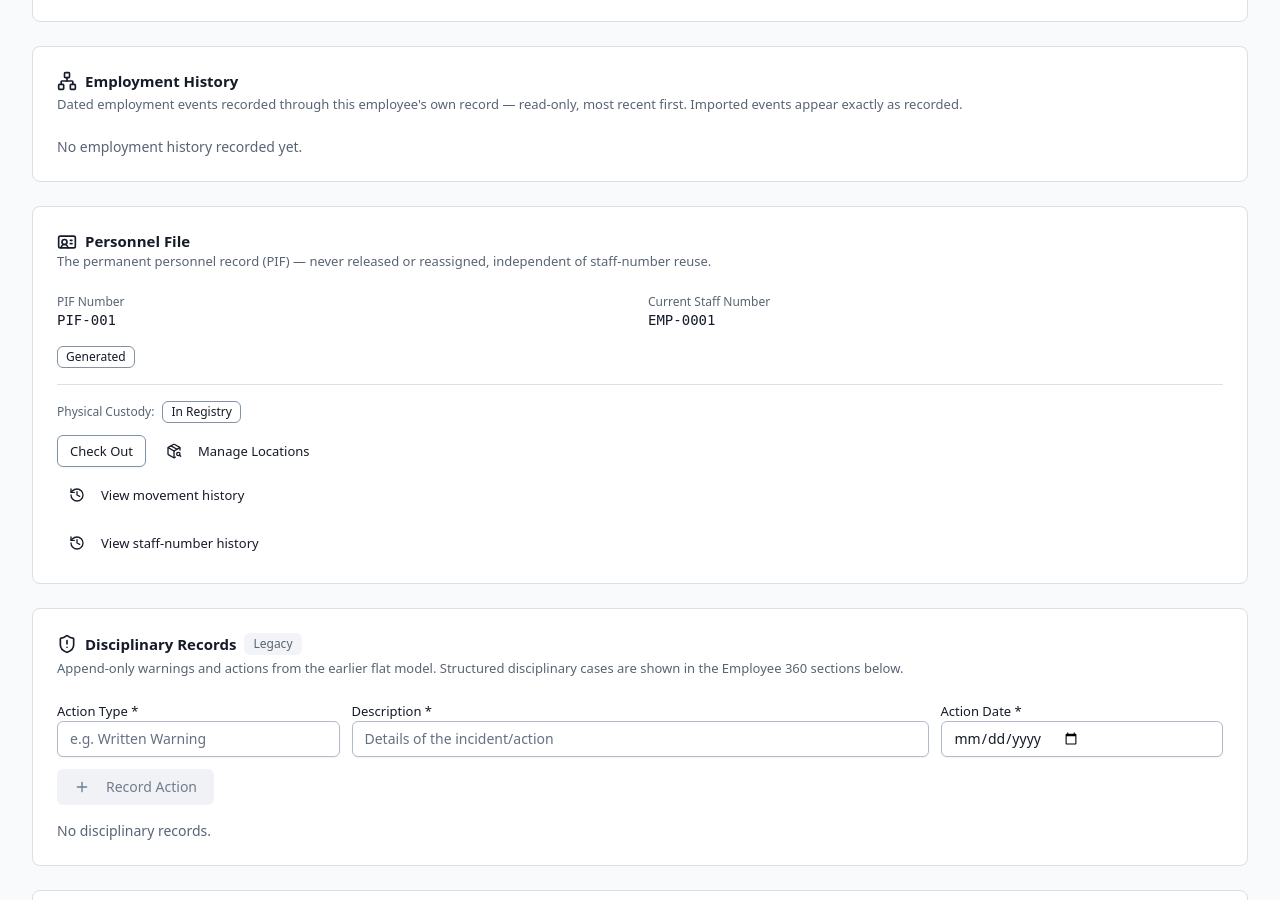
Test: Employee detail page › Records Locations manager (Phase 3H, W116) › lists existing locations with their parent and status
This screenshot has width=1280, height=900.
(page scrolled)
Click the button with test id "button-manage-locations": (238, 451) [154,435,322,467]
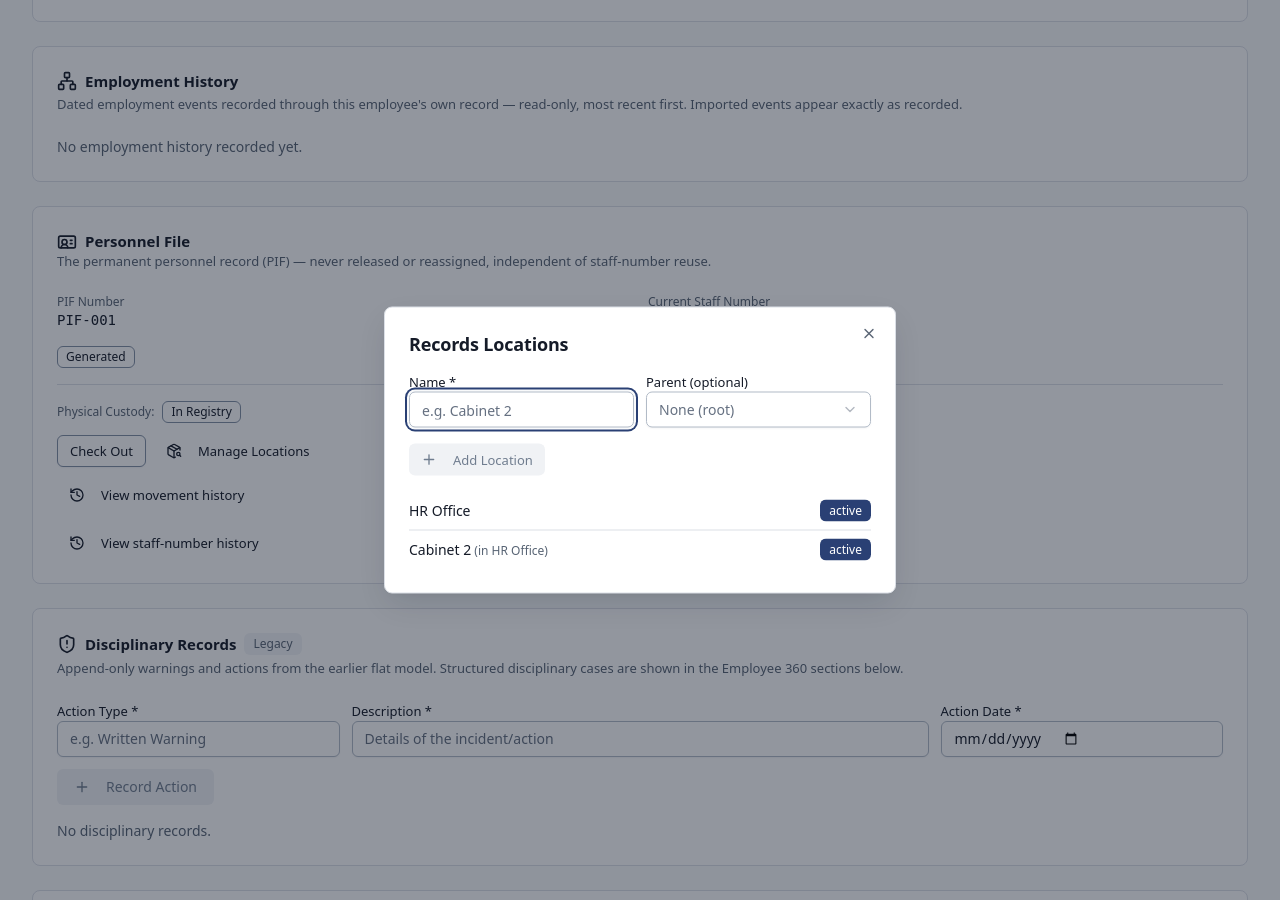
Expected: the text "HR Office" is shown, [409,500,470,520]
Expected: the text "Cabinet 2" is shown, [409,540,471,558]
